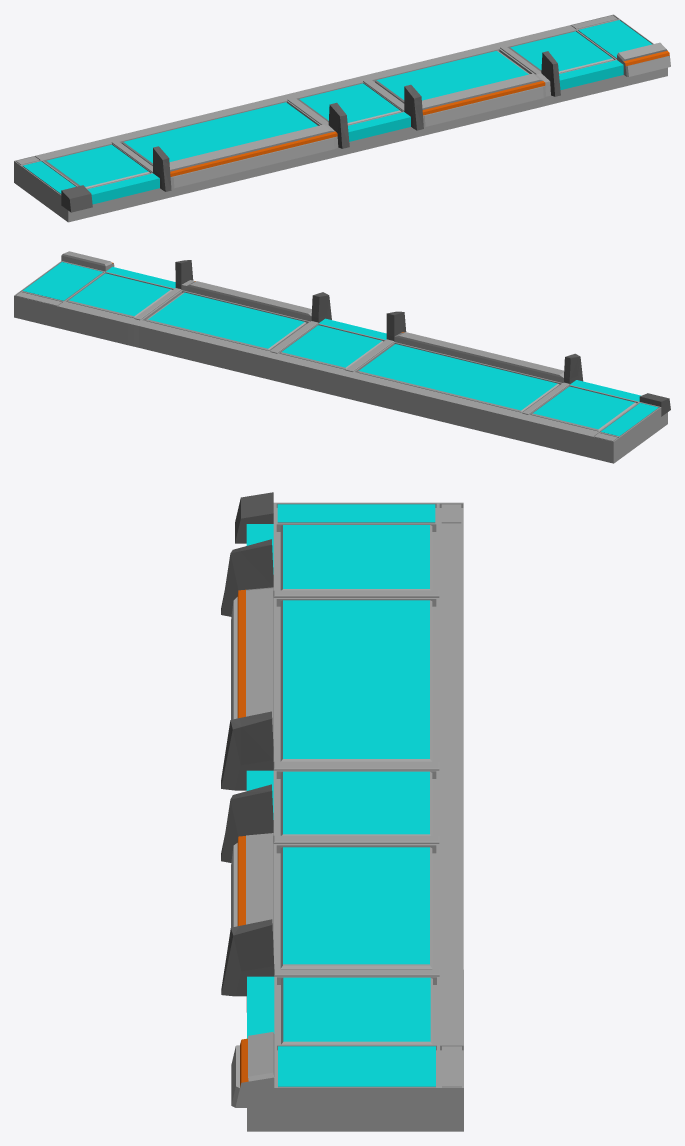
Rendered from HighFloor.fbx.
The picture shows the model from 3 angles, top to bottom: view 1: azimuth 30°, elevation 25°; view 2: azimuth 150°, elevation 25°; view 3: azimuth 270°, elevation 25°; orthographic projection. The views are drawn at different scales.
Visible parts, largest first — view 1: polySurface39; view 2: polySurface39; view 3: polySurface39.
Boxes of the visible parts, box(x1,y1,x2,y2) form: polySurface39: box(14, 14, 670, 222); polySurface39: box(14, 251, 670, 463); polySurface39: box(221, 492, 463, 1131).
Size of the model in its own units: 86.18 by 15.13 by 6.6.
